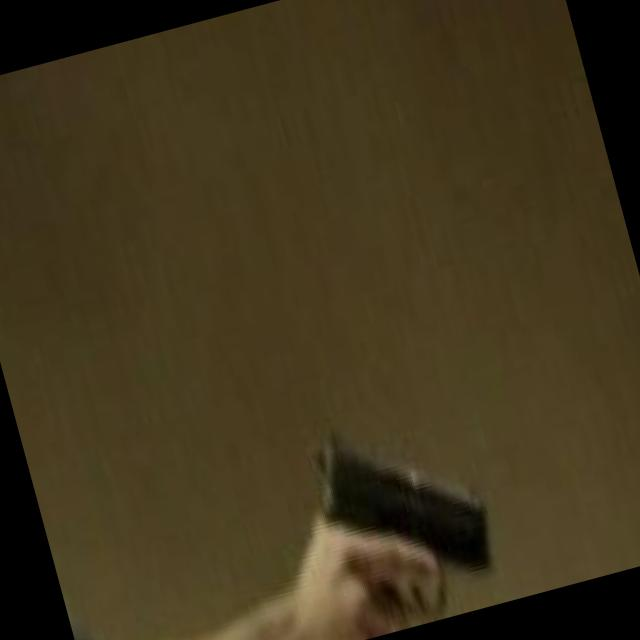Guns: (252, 359, 546, 640)
